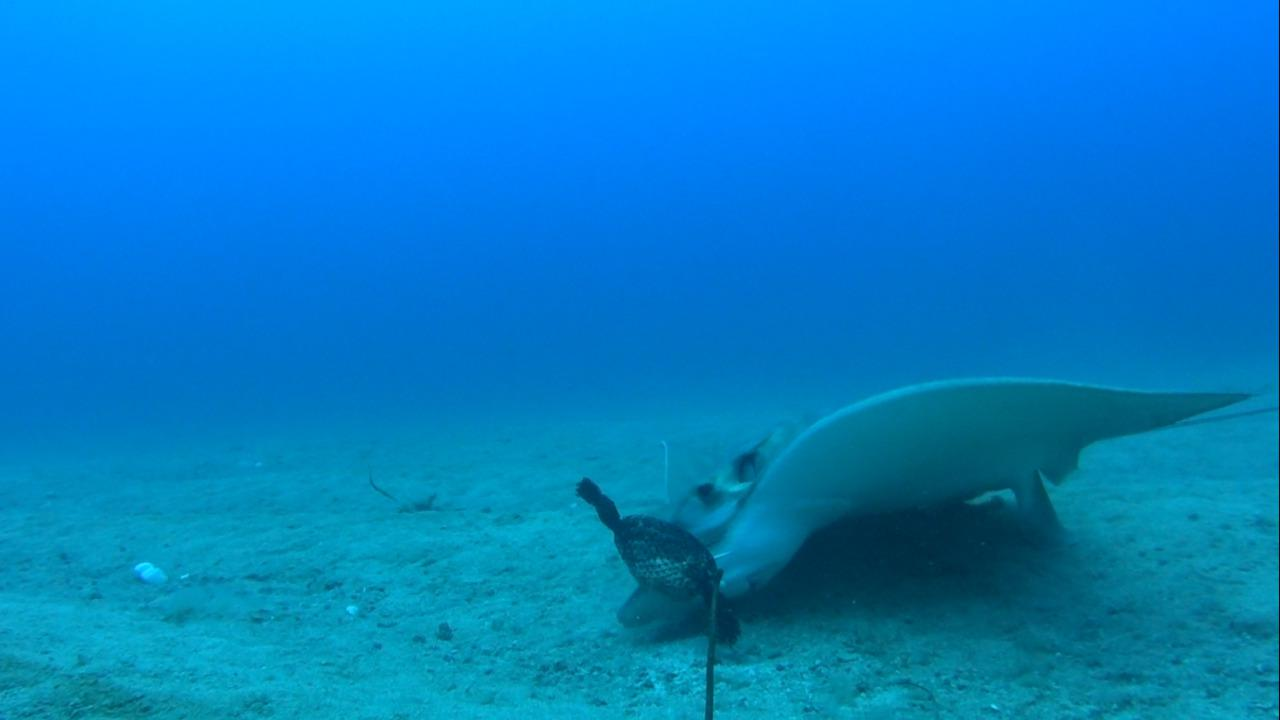myliobatis: (611, 373, 1279, 627)
